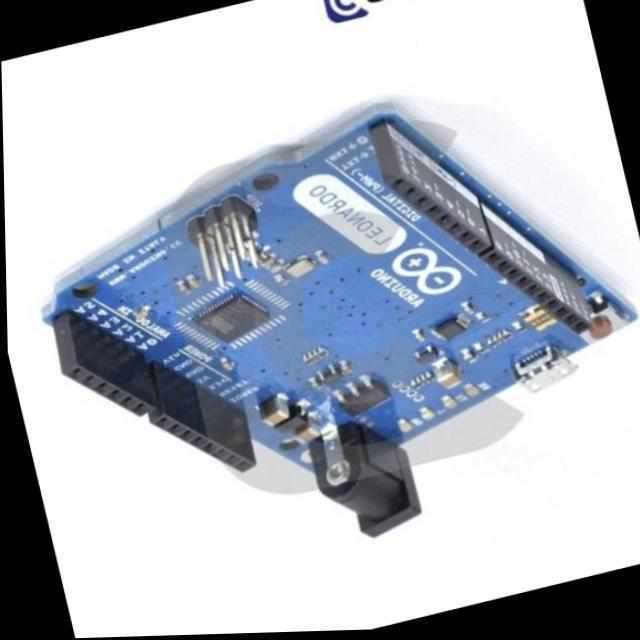Arduino-leonardo: (45, 109, 636, 537)
